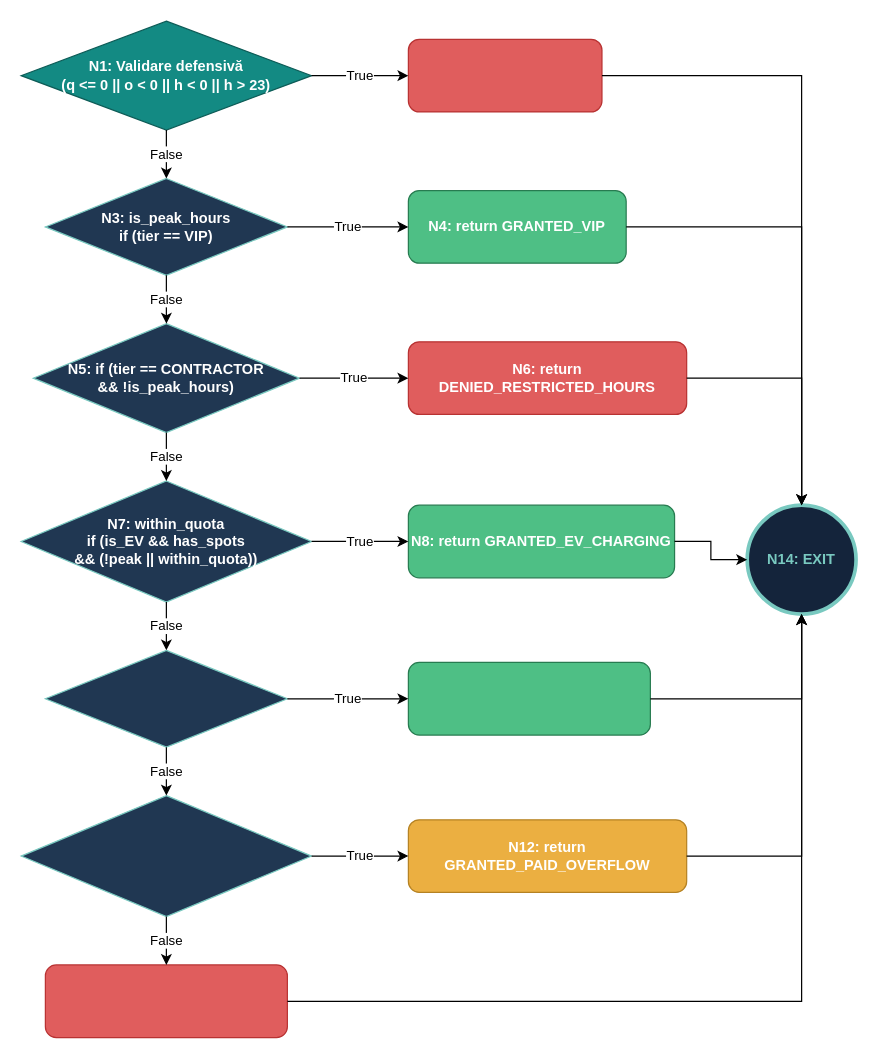
Some shapes in this 878 by 1059 pixel diagram are drawn without their labels. The shapes that lost their labels are listed below. From the top down, each one's centre as x and y in pixels, then its label:
point 504,75: N2: raise ValueError
point 165,698: N9: if (within_quota) (occupied < quota)
point 528,698: N10: return GRANTED_REGULAR
point 166,855: N11: overflow_count if (allows_overflow && (!peak || overflow < 5))
point 165,1001: N13: return DENIED_QUOTA_EXCEEDED
